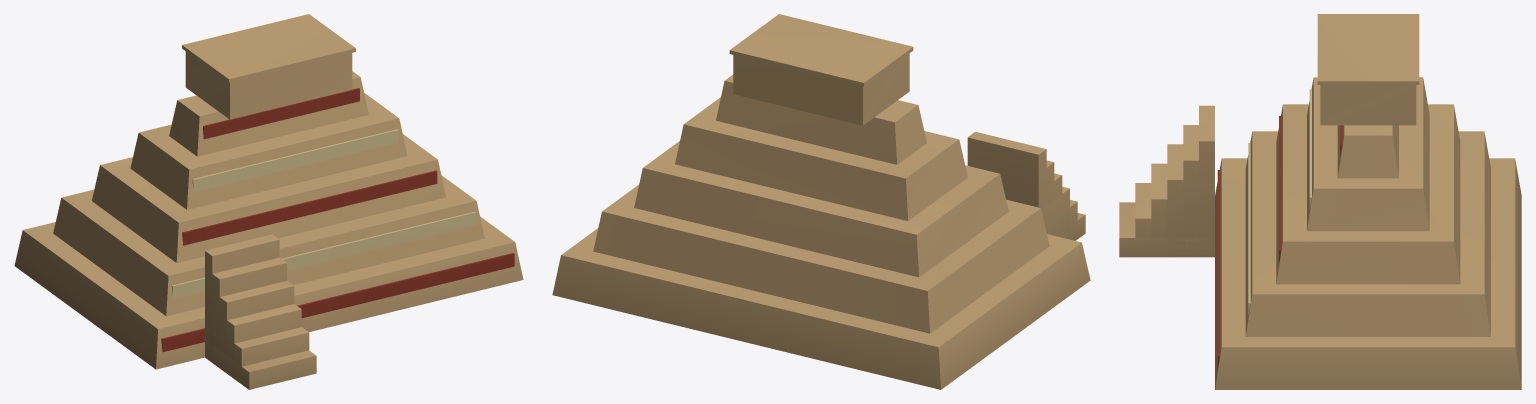
The model's file is moche_huaca_lod0.glb.
3 renders of one model, left to right at view 1: azimuth 30°, elevation 25°; view 2: azimuth 150°, elevation 25°; view 3: azimuth 270°, elevation 25°, orthographic. The views are drawn at different scales.
Parts seen in each view (by area): view 1: GEO-Arch_moche_huaca_LOD0; view 2: GEO-Arch_moche_huaca_LOD0; view 3: GEO-Arch_moche_huaca_LOD0.
Boxes of the visible parts, <box> form: GEO-Arch_moche_huaca_LOD0: <box>14,14,523,389</box>; GEO-Arch_moche_huaca_LOD0: <box>552,14,1090,389</box>; GEO-Arch_moche_huaca_LOD0: <box>1119,14,1521,389</box>.
Bounding box in the file's own units: 24 × 14.12 × 21.
